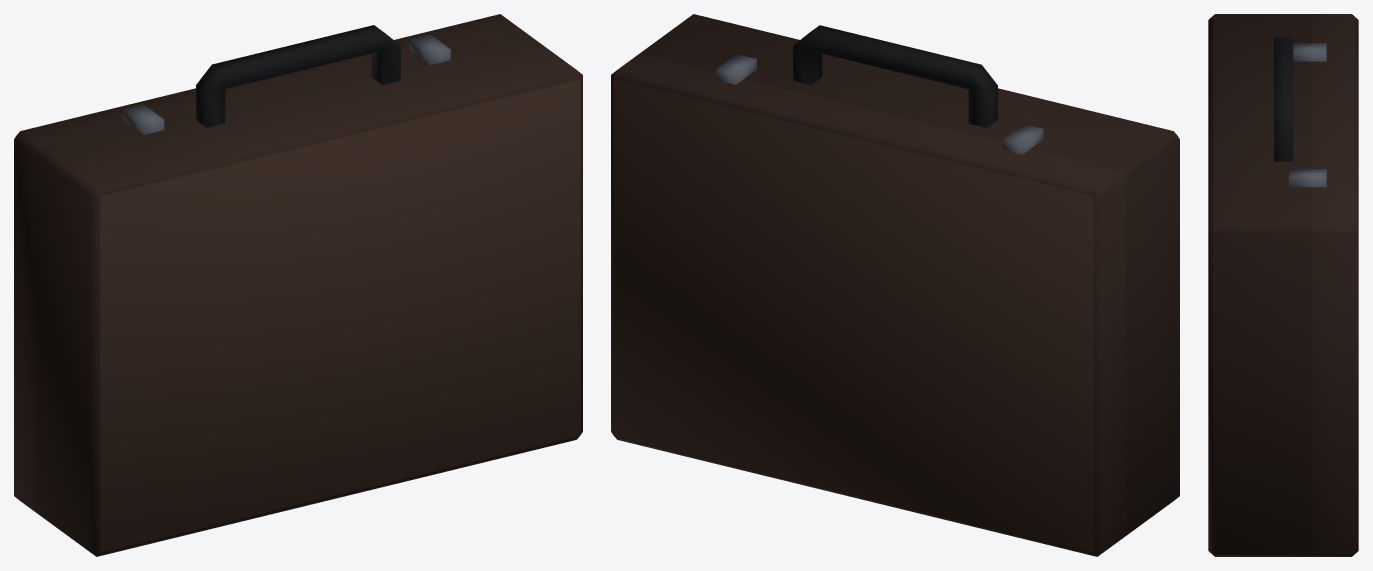
File: PROP_Suitcase.fbx
3 renders of one model, left to right at view 1: azimuth 30°, elevation 25°; view 2: azimuth 150°, elevation 25°; view 3: azimuth 270°, elevation 25°, orthographic. The views are drawn at different scales.
Visible parts, largest first — view 1: Suitcase; view 2: Suitcase; view 3: Suitcase.
Part boxes in pixels (<box>): Suitcase: <box>14,14,582,556</box>; Suitcase: <box>611,14,1179,556</box>; Suitcase: <box>1208,14,1358,556</box>.
Bounding box in the file's own units: 0.4591 × 0.3755 × 0.1349.
